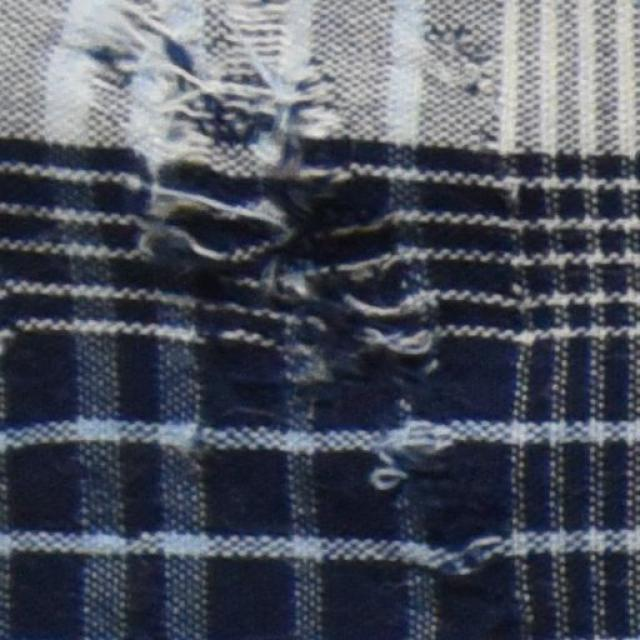Snag: (106, 29, 462, 494), (400, 6, 488, 107)
